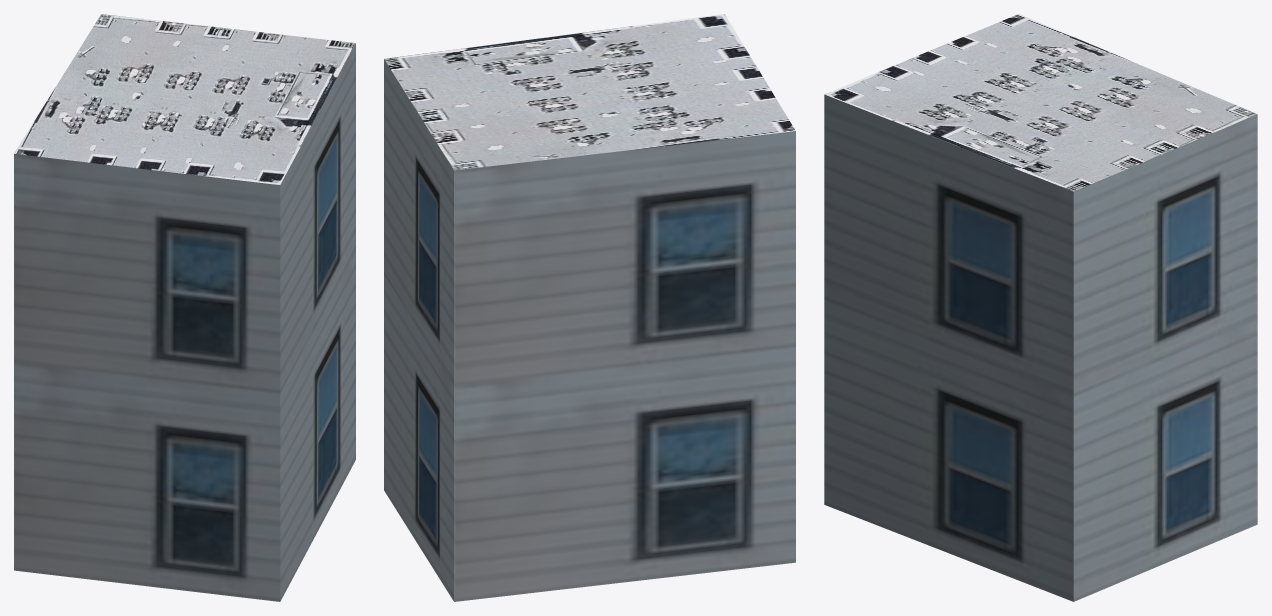
File: ResTex__2353.fbx
The picture shows the model from 3 angles, left to right: view 1: azimuth 30°, elevation 25°; view 2: azimuth 150°, elevation 25°; view 3: azimuth 270°, elevation 25°; orthographic projection. The views are drawn at different scales.
Visible parts, largest first — view 1: CityEngineMaterial_18_m, CityEngineMaterial_4_m; view 2: CityEngineMaterial_18_m, CityEngineMaterial_4_m; view 3: CityEngineMaterial_18_m, CityEngineMaterial_4_m.
Part boxes in pixels (bbox=[...]): CityEngineMaterial_18_m: bbox=[14, 43, 355, 601]; CityEngineMaterial_4_m: bbox=[14, 14, 355, 184]; CityEngineMaterial_18_m: bbox=[384, 59, 795, 601]; CityEngineMaterial_4_m: bbox=[384, 14, 795, 170]; CityEngineMaterial_18_m: bbox=[824, 94, 1257, 601]; CityEngineMaterial_4_m: bbox=[824, 14, 1257, 191].
Size of the model in its own units: 5.57 by 6 by 5.75.
Materials: 2 (2 with a texture image).
